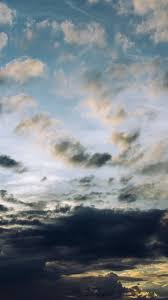sky: (3, 3, 165, 294)
